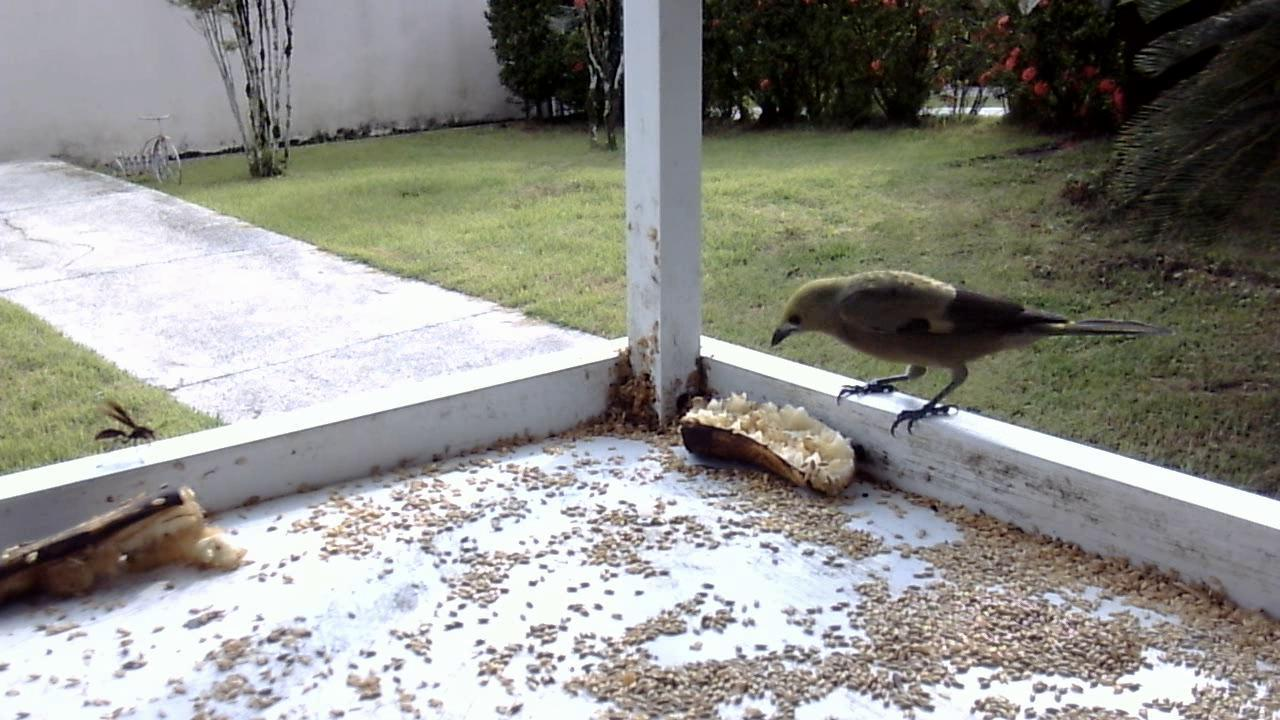sanhaco_do_coqueiro: (758, 258, 1171, 453)
